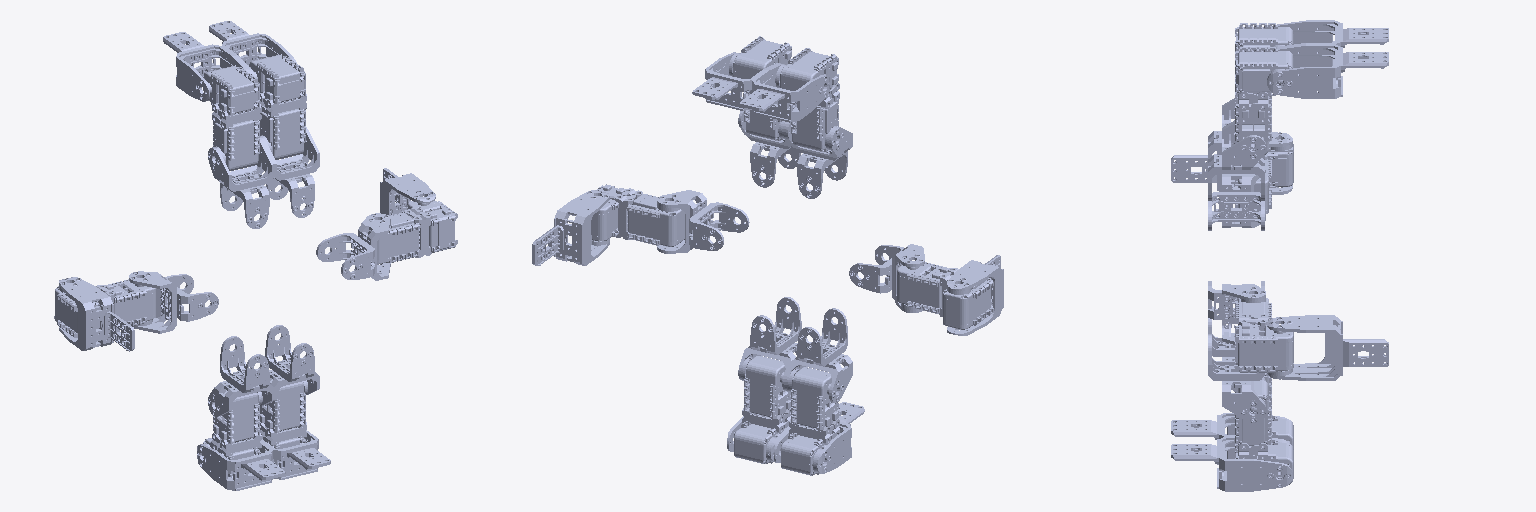
robot.urdf — spider:
<?xml version="1.0" encoding="utf-8"?>
<!-- This URDF was automatically created by SolidWorks to URDF Exporter! Originally created by Stephen Brawner ([email redacted]) 
     Commit Version: 1.6.0-1-g15f4949  Build Version: 1.6.7594.29634
     For more information, please see http://wiki.ros.org/sw_urdf_exporter -->
<robot
  name="spider">
  <link
    name="base_link">
    <inertial>
      <origin
        xyz="0.06965 -0.060146 0.00038836"
        rpy="0 0 0" />
      <mass
        value="0.32357" />
      <inertia
        ixx="9.1438E-05"
        ixy="-2.1084E-08"
        ixz="2.287E-11"
        iyy="9.6935E-05"
        iyz="6.371E-06"
        izz="0.00012302" />
    </inertial>
    <visual>
      <origin
        xyz="0 0 0"
        rpy="0 0 0" />
      <geometry>
        <mesh
          filename="package://spider/meshes/base_link.STL" />
      </geometry>
      <material
        name="">
        <color
          rgba="0.79216 0.81961 0.93333 1" />
      </material>
    </visual>
    <collision>
      <origin
        xyz="0 0 0"
        rpy="0 0 0" />
      <geometry>
        <mesh
          filename="package://spider/meshes/base_link.STL" />
      </geometry>
    </collision>
  </link>
  <link
    name="link1-1">
    <inertial>
      <origin
        xyz="0.0029272 0.0014395 0.028121"
        rpy="0 0 0" />
      <mass
        value="0.016509" />
      <inertia
        ixx="4.7513E-06"
        ixy="-1.1049E-15"
        ixz="-3.0699E-07"
        iyy="4.7742E-06"
        iyz="-1.5671E-10"
        izz="6.4655E-06" />
    </inertial>
    <visual>
      <origin
        xyz="0 0 0"
        rpy="0 0 0" />
      <geometry>
        <mesh
          filename="package://spider/meshes/link1-1.STL" />
      </geometry>
      <material
        name="">
        <color
          rgba="0.79216 0.81961 0.93333 1" />
      </material>
    </visual>
    <collision>
      <origin
        xyz="0 0 0"
        rpy="0 0 0" />
      <geometry>
        <mesh
          filename="package://spider/meshes/link1-1.STL" />
      </geometry>
    </collision>
  </link>
  <joint
    name="joint1-1"
    type="revolute">
    <origin
      xyz="0.14565 0.0010255 -0.059724"
      rpy="1.5708 0 1.5708" />
    <parent
      link="base_link" />
    <child
      link="link1-1" />
    <axis
      xyz="0 0 1" />
    <limit
      lower="-1.57"
      upper="1.57"
      effort="100"
      velocity="1" />
  </joint>
  <link
    name="link1-2">
    <inertial>
      <origin
        xyz="0.0045584 -0.0039395 -3.9372E-05"
        rpy="0 0 0" />
      <mass
        value="0.090281" />
      <inertia
        ixx="1.8732E-05"
        ixy="6.9118E-09"
        ixz="1.9053E-07"
        iyy="1.9071E-05"
        iyz="9.4929E-08"
        izz="2.0377E-05" />
    </inertial>
    <visual>
      <origin
        xyz="0 0 0"
        rpy="0 0 0" />
      <geometry>
        <mesh
          filename="package://spider/meshes/link1-2.STL" />
      </geometry>
      <material
        name="">
        <color
          rgba="0.79216 0.81961 0.93333 1" />
      </material>
    </visual>
    <collision>
      <origin
        xyz="0 0 0"
        rpy="0 0 0" />
      <geometry>
        <mesh
          filename="package://spider/meshes/link1-2.STL" />
      </geometry>
    </collision>
  </link>
  <joint
    name="joint1-2"
    type="revolute">
    <origin
      xyz="0.0145 0 0.0905"
      rpy="1.4973 0 0" />
    <parent
      link="link1-1" />
    <child
      link="link1-2" />
    <axis
      xyz="0 1 0" />
    <limit
      lower="-3.14"
      upper="3.14"
      effort="100"
      velocity="1" />
  </joint>
  <link
    name="link1-3">
    <inertial>
      <origin
        xyz="4.81524561196656E-08 -0.001639555290818 0.0391610106458949"
        rpy="0 0 0" />
      <mass
        value="0.0162354598923104" />
      <inertia
        ixx="5.70977126449827E-06"
        ixy="-8.8112790832911E-12"
        ixz="2.26674237419322E-11"
        iyy="9.85119727259757E-06"
        iyz="-5.03809142386347E-08"
        izz="6.18048965390726E-06" />
    </inertial>
    <visual>
      <origin
        xyz="0 0 0"
        rpy="0 0 0" />
      <geometry>
        <mesh
          filename="package://spider/meshes/link1-3.STL" />
      </geometry>
      <material
        name="">
        <color
          rgba="0.792156862745098 0.819607843137255 0.933333333333333 1" />
      </material>
    </visual>
    <collision>
      <origin
        xyz="0 0 0"
        rpy="0 0 0" />
      <geometry>
        <mesh
          filename="package://spider/meshes/link1-3.STL" />
      </geometry>
    </collision>
  </link>
  <joint
    name="joint1-3"
    type="revolute">
    <origin
      xyz="0.0225 0.018949 0.001395"
      rpy="-1.5708 -1.4973 -1.5708" />
    <parent
      link="link1-2" />
    <child
      link="link1-3" />
    <axis
      xyz="0 1 0" />
    <limit
      lower="-3.14"
      upper="3.14"
      effort="100"
      velocity="1" />
  </joint>
  <link
    name="link2-1">
    <inertial>
      <origin
        xyz="0.0028787 -0.0013732 -0.028034"
        rpy="0 0 0" />
      <mass
        value="0.01644" />
      <inertia
        ixx="4.7506E-06"
        ixy="-1.5342E-16"
        ixz="3.0699E-07"
        iyy="4.7741E-06"
        iyz="-1.567E-10"
        izz="6.4649E-06" />
    </inertial>
    <visual>
      <origin
        xyz="0 0 0"
        rpy="0 0 0" />
      <geometry>
        <mesh
          filename="package://spider/meshes/link2-1.STL" />
      </geometry>
      <material
        name="">
        <color
          rgba="0.79216 0.81961 0.93333 1" />
      </material>
    </visual>
    <collision>
      <origin
        xyz="0 0 0"
        rpy="0 0 0" />
      <geometry>
        <mesh
          filename="package://spider/meshes/link2-1.STL" />
      </geometry>
    </collision>
  </link>
  <joint
    name="joint2-1"
    type="revolute">
    <origin
      xyz="0.09365 0.0010255 0.014776"
      rpy="3.1416 0 1.5708" />
    <parent
      link="base_link" />
    <child
      link="link2-1" />
    <axis
      xyz="0 0 1" />
    <limit
      lower="-3.14"
      upper="3.14"
      effort="100"
      velocity="1" />
  </joint>
  <link
    name="link2-2">
    <inertial>
      <origin
        xyz="0.00456940269336029 -0.0375990154493233 -0.000232293803969774"
        rpy="0 0 0" />
      <mass
        value="0.0900475899194254" />
      <inertia
        ixx="1.87431231972947E-05"
        ixy="-2.09852441088479E-08"
        ixz="-1.89540352094223E-07"
        iyy="1.91013032023302E-05"
        iyz="1.89445374590494E-07"
        izz="2.03522492142479E-05" />
    </inertial>
    <visual>
      <origin
        xyz="0 0 0"
        rpy="0 0 0" />
      <geometry>
        <mesh
          filename="package://spider/meshes/link2-2.STL" />
      </geometry>
      <material
        name="">
        <color
          rgba="0.792156862745098 0.819607843137255 0.933333333333333 1" />
      </material>
    </visual>
    <collision>
      <origin
        xyz="0 0 0"
        rpy="0 0 0" />
      <geometry>
        <mesh
          filename="package://spider/meshes/link2-2.STL" />
      </geometry>
    </collision>
  </link>
  <joint
    name="j2-2"
    type="revolute">
    <origin
      xyz="0.0145 0 -0.049"
      rpy="1.5708 0 0" />
    <parent
      link="link2-1" />
    <child
      link="link2-2" />
    <axis
      xyz="1 0 0" />
    <limit
      lower="-3.14"
      upper="3.14"
      effort="100"
      velocity="1" />
  </joint>
  <link
    name="l2-3">
    <inertial>
      <origin
        xyz="4.81524561612989E-08 -0.00163955529081801 0.0391610106458949"
        rpy="0 0 0" />
      <mass
        value="0.0162354598923105" />
      <inertia
        ixx="5.70977126449829E-06"
        ixy="-8.8112790834674E-12"
        ixz="2.26674237541185E-11"
        iyy="9.8511972725976E-06"
        iyz="-5.03809142386373E-08"
        izz="6.18048965390729E-06" />
    </inertial>
    <visual>
      <origin
        xyz="0 0 0"
        rpy="0 0 0" />
      <geometry>
        <mesh
          filename="package://spider/meshes/l2-3.STL" />
      </geometry>
      <material
        name="">
        <color
          rgba="0.792156862745098 0.819607843137255 0.933333333333333 1" />
      </material>
    </visual>
    <collision>
      <origin
        xyz="0 0 0"
        rpy="0 0 0" />
      <geometry>
        <mesh
          filename="package://spider/meshes/l2-3.STL" />
      </geometry>
    </collision>
  </link>
  <joint
    name="j2-3"
    type="revolute">
    <origin
      xyz="0.0225 -0.0605 0"
      rpy="0 1.5708 0" />
    <parent
      link="link2-2" />
    <child
      link="l2-3" />
    <axis
      xyz="1 0 0" />
    <limit
      lower="-3.14"
      upper="3.14"
      effort="100"
      velocity="1" />
  </joint>
  <link
    name="Link3-1">
    <inertial>
      <origin
        xyz="0.0029272 -0.0014395 -0.028121"
        rpy="0 0 0" />
      <mass
        value="0.016509" />
      <inertia
        ixx="4.7513E-06"
        ixy="1.105E-15"
        ixz="3.0699E-07"
        iyy="4.7742E-06"
        iyz="-1.5671E-10"
        izz="6.4655E-06" />
    </inertial>
    <visual>
      <origin
        xyz="0 0 0"
        rpy="0 0 0" />
      <geometry>
        <mesh
          filename="package://spider/meshes/Link3-1.STL" />
      </geometry>
      <material
        name="">
        <color
          rgba="0.79216 0.81961 0.93333 1" />
      </material>
    </visual>
    <collision>
      <origin
        xyz="0 0 0"
        rpy="0 0 0" />
      <geometry>
        <mesh
          filename="package://spider/meshes/Link3-1.STL" />
      </geometry>
    </collision>
  </link>
  <joint
    name="j3-1"
    type="revolute">
    <origin
      xyz="0.04565 0.0010255 0.014776"
      rpy="-3.1416 0 1.5708" />
    <parent
      link="base_link" />
    <child
      link="Link3-1" />
    <axis
      xyz="0 0 1" />
    <limit
      lower="-3.14"
      upper="3.14"
      effort="100"
      velocity="1" />
  </joint>
  <link
    name="l3-2">
    <inertial>
      <origin
        xyz="0.00455554834605721 -0.0375867899880844 -0.000250865030354555"
        rpy="0 0 0" />
      <mass
        value="0.0899979291999051" />
      <inertia
        ixx="1.87172016777334E-05"
        ixy="-2.08817053695041E-08"
        ixz="-1.89502932188281E-07"
        iyy="1.9077205931428E-05"
        iyz="1.89503836208455E-07"
        izz="2.03553773315109E-05" />
    </inertial>
    <visual>
      <origin
        xyz="0 0 0"
        rpy="0 0 0" />
      <geometry>
        <mesh
          filename="package://spider/meshes/l3-2.STL" />
      </geometry>
      <material
        name="">
        <color
          rgba="0.792156862745098 0.819607843137255 0.933333333333333 1" />
      </material>
    </visual>
    <collision>
      <origin
        xyz="0 0 0"
        rpy="0 0 0" />
      <geometry>
        <mesh
          filename="package://spider/meshes/l3-2.STL" />
      </geometry>
    </collision>
  </link>
  <joint
    name="j3-2"
    type="revolute">
    <origin
      xyz="0.0145 0 -0.049"
      rpy="1.5708 0 0" />
    <parent
      link="Link3-1" />
    <child
      link="l3-2" />
    <axis
      xyz="1 0 0" />
    <limit
      lower="-3.14"
      upper="3.14"
      effort="100"
      velocity="1" />
  </joint>
  <link
    name="l3-3">
    <inertial>
      <origin
        xyz="4.81524561474211E-08 -0.00163955529081804 0.0391610106458949"
        rpy="0 0 0" />
      <mass
        value="0.0162354598923105" />
      <inertia
        ixx="5.70977126449829E-06"
        ixy="-8.8112790828747E-12"
        ixz="2.26674237565265E-11"
        iyy="9.8511972725976E-06"
        iyz="-5.03809142386341E-08"
        izz="6.18048965390729E-06" />
    </inertial>
    <visual>
      <origin
        xyz="0 0 0"
        rpy="0 0 0" />
      <geometry>
        <mesh
          filename="package://spider/meshes/l3-3.STL" />
      </geometry>
      <material
        name="">
        <color
          rgba="0.792156862745098 0.819607843137255 0.933333333333333 1" />
      </material>
    </visual>
    <collision>
      <origin
        xyz="0 0 0"
        rpy="0 0 0" />
      <geometry>
        <mesh
          filename="package://spider/meshes/l3-3.STL" />
      </geometry>
    </collision>
  </link>
  <joint
    name="j3-3"
    type="revolute">
    <origin
      xyz="0.0225 -0.0605 0"
      rpy="0 1.5708 0" />
    <parent
      link="l3-2" />
    <child
      link="l3-3" />
    <axis
      xyz="1 0 0" />
    <limit
      lower="-3.14"
      upper="3.14"
      effort="100"
      velocity="1" />
  </joint>
  <link
    name="Link1'-1">
    <inertial>
      <origin
        xyz="0.0029272 0.0014395 0.028121"
        rpy="0 0 0" />
      <mass
        value="0.016509" />
      <inertia
        ixx="4.7513E-06"
        ixy="5.3643E-15"
        ixz="-3.0699E-07"
        iyy="4.7742E-06"
        iyz="-1.5674E-10"
        izz="6.4655E-06" />
    </inertial>
    <visual>
      <origin
        xyz="0 0 0"
        rpy="0 0 0" />
      <geometry>
        <mesh
          filename="package://spider/meshes/Link1'-1.STL" />
      </geometry>
      <material
        name="">
        <color
          rgba="0.79216 0.81961 0.93333 1" />
      </material>
    </visual>
    <collision>
      <origin
        xyz="0 0 0"
        rpy="0 0 0" />
      <geometry>
        <mesh
          filename="package://spider/meshes/Link1'-1.STL" />
      </geometry>
    </collision>
  </link>
  <joint
    name="j1'-1"
    type="revolute">
    <origin
      xyz="-0.0063504 0.0010255 -0.059724"
      rpy="-1.5708 0 1.5708" />
    <parent
      link="base_link" />
    <child
      link="Link1'-1" />
    <axis
      xyz="0 0 1" />
    <limit
      lower="-3.14"
      upper="3.14"
      effort="100"
      velocity="1" />
  </joint>
  <link
    name="l1'-2">
    <inertial>
      <origin
        xyz="0.0229772283825683 -0.0179454345262804 0.00026282191392938"
        rpy="0 0 0" />
      <mass
        value="0.0903572601752896" />
      <inertia
        ixx="1.91049081720944E-05"
        ixy="-2.08818818831712E-08"
        ixz="-1.89504089823545E-07"
        iyy="1.87449036322938E-05"
        iyz="1.89503857894319E-07"
        izz="2.03556401861555E-05" />
    </inertial>
    <visual>
      <origin
        xyz="0 0 0"
        rpy="0 0 0" />
      <geometry>
        <mesh
          filename="package://spider/meshes/l1'-2.STL" />
      </geometry>
      <material
        name="">
        <color
          rgba="0.792156862745098 0.819607843137255 0.933333333333333 1" />
      </material>
    </visual>
    <collision>
      <origin
        xyz="0 0 0"
        rpy="0 0 0" />
      <geometry>
        <mesh
          filename="package://spider/meshes/l1'-2.STL" />
      </geometry>
    </collision>
  </link>
  <joint
    name="j1'-2"
    type="revolute">
    <origin
      xyz="0.037 0 0.1095"
      rpy="3.1416 1.5708 1.5708" />
    <parent
      link="Link1'-1" />
    <child
      link="l1'-2" />
    <axis
      xyz="0 -1 0" />
    <limit
      lower="-3.14"
      upper="3.14"
      effort="100"
      velocity="1" />
  </joint>
  <link
    name="l1'-3">
    <inertial>
      <origin
        xyz="4.81524560433377E-08 -0.00163955529081773 0.0391610106458952"
        rpy="0 0 0" />
      <mass
        value="0.0162354598923104" />
      <inertia
        ixx="5.70977126449827E-06"
        ixy="-8.81127908282785E-12"
        ixz="2.26674237478767E-11"
        iyy="9.85119727259758E-06"
        iyz="-5.03809142386411E-08"
        izz="6.18048965390728E-06" />
    </inertial>
    <visual>
      <origin
        xyz="0 0 0"
        rpy="0 0 0" />
      <geometry>
        <mesh
          filename="package://spider/meshes/l1'-3.STL" />
      </geometry>
      <material
        name="">
        <color
          rgba="0.792156862745098 0.819607843137255 0.933333333333333 1" />
      </material>
    </visual>
    <collision>
      <origin
        xyz="0 0 0"
        rpy="0 0 0" />
      <geometry>
        <mesh
          filename="package://spider/meshes/l1'-3.STL" />
      </geometry>
    </collision>
  </link>
  <joint
    name="l1'-3"
    type="revolute">
    <origin
      xyz="0 0 0"
      rpy="1.5708 -1.5708 0" />
    <parent
      link="l1'-2" />
    <child
      link="l1'-3" />
    <axis
      xyz="0 -1 0" />
    <limit
      lower="-3.14"
      upper="3.14"
      effort="100"
      velocity="1" />
  </joint>
  <link
    name="Link3'-1">
    <inertial>
      <origin
        xyz="0.0028787 0.0013732 0.028034"
        rpy="0 0 0" />
      <mass
        value="0.01644" />
      <inertia
        ixx="4.7506E-06"
        ixy="1.5342E-16"
        ixz="-3.0699E-07"
        iyy="4.7741E-06"
        iyz="-1.567E-10"
        izz="6.4649E-06" />
    </inertial>
    <visual>
      <origin
        xyz="0 0 0"
        rpy="0 0 0" />
      <geometry>
        <mesh
          filename="package://spider/meshes/Link3'-1.STL" />
      </geometry>
      <material
        name="">
        <color
          rgba="0.79216 0.81961 0.93333 1" />
      </material>
    </visual>
    <collision>
      <origin
        xyz="0 0 0"
        rpy="0 0 0" />
      <geometry>
        <mesh
          filename="package://spider/meshes/Link3'-1.STL" />
      </geometry>
    </collision>
  </link>
  <joint
    name="j3'-1"
    type="revolute">
    <origin
      xyz="0.04565 0.0010255 -0.13422"
      rpy="3.1416 0 1.5708" />
    <parent
      link="base_link" />
    <child
      link="Link3'-1" />
    <axis
      xyz="0 0 1" />
    <limit
      lower="-3.14"
      upper="3.14"
      effort="100"
      velocity="1" />
  </joint>
  <link
    name="l3'-2">
    <inertial>
      <origin
        xyz="0.00455456547370052 -0.00397722838259307 0.000262821913908251"
        rpy="0 0 0" />
      <mass
        value="0.0903572601751924" />
      <inertia
        ixx="1.87449036322931E-05"
        ixy="2.08818818831496E-08"
        ixz="1.89503857894261E-07"
        iyy="1.91049081720936E-05"
        iyz="1.8950408982354E-07"
        izz="2.03556401861555E-05" />
    </inertial>
    <visual>
      <origin
        xyz="0 0 0"
        rpy="0 0 0" />
      <geometry>
        <mesh
          filename="package://spider/meshes/l3'-2.STL" />
      </geometry>
      <material
        name="">
        <color
          rgba="0.792156862745098 0.819607843137255 0.933333333333333 1" />
      </material>
    </visual>
    <collision>
      <origin
        xyz="0 0 0"
        rpy="0 0 0" />
      <geometry>
        <mesh
          filename="package://spider/meshes/l3'-2.STL" />
      </geometry>
    </collision>
  </link>
  <joint
    name="j3'-2"
    type="revolute">
    <origin
      xyz="0.0145 0 0.0905"
      rpy="1.5708 0 0" />
    <parent
      link="Link3'-1" />
    <child
      link="l3'-2" />
    <axis
      xyz="-1 0 0" />
    <limit
      lower="-3.14"
      upper="3.14"
      effort="100"
      velocity="1" />
  </joint>
  <link
    name="l3'-3">
    <inertial>
      <origin
        xyz="4.81524561335434E-08 -0.00163955529081802 0.0391610106458949"
        rpy="0 0 0" />
      <mass
        value="0.0162354598923105" />
      <inertia
        ixx="5.70977126449827E-06"
        ixy="-8.81127908397801E-12"
        ixz="2.26674237422794E-11"
        iyy="9.85119727259758E-06"
        iyz="-5.03809142386363E-08"
        izz="6.18048965390729E-06" />
    </inertial>
    <visual>
      <origin
        xyz="0 0 0"
        rpy="0 0 0" />
      <geometry>
        <mesh
          filename="package://spider/meshes/l3'-3.STL" />
      </geometry>
      <material
        name="">
        <color
          rgba="0.792156862745098 0.819607843137255 0.933333333333333 1" />
      </material>
    </visual>
    <collision>
      <origin
        xyz="0 0 0"
        rpy="0 0 0" />
      <geometry>
        <mesh
          filename="package://spider/meshes/l3'-3.STL" />
      </geometry>
    </collision>
  </link>
  <joint
    name="j3'-3"
    type="revolute">
    <origin
      xyz="0.0225 0.019 0"
      rpy="0 -1.5708 0" />
    <parent
      link="l3'-2" />
    <child
      link="l3'-3" />
    <axis
      xyz="-1 0 0" />
    <limit
      lower="-3.14"
      upper="3.14"
      effort="100"
      velocity="1" />
  </joint>
  <link
    name="Link2'-1">
    <inertial>
      <origin
        xyz="0.0029272 0.0014395 0.028121"
        rpy="0 0 0" />
      <mass
        value="0.016509" />
      <inertia
        ixx="4.7513E-06"
        ixy="-1.1049E-15"
        ixz="-3.0699E-07"
        iyy="4.7742E-06"
        iyz="-1.5671E-10"
        izz="6.4655E-06" />
    </inertial>
    <visual>
      <origin
        xyz="0 0 0"
        rpy="0 0 0" />
      <geometry>
        <mesh
          filename="package://spider/meshes/Link2'-1.STL" />
      </geometry>
      <material
        name="">
        <color
          rgba="0.79216 0.81961 0.93333 1" />
      </material>
    </visual>
    <collision>
      <origin
        xyz="0 0 0"
        rpy="0 0 0" />
      <geometry>
        <mesh
          filename="package://spider/meshes/Link2'-1.STL" />
      </geometry>
    </collision>
  </link>
  <joint
    name="j2'-1"
    type="revolute">
    <origin
      xyz="0.09365 0.0010255 -0.13422"
      rpy="3.1416 0 1.5708" />
    <parent
      link="base_link" />
    <child
      link="Link2'-1" />
    <axis
      xyz="0 0 1" />
    <limit
      lower="-3.14"
      upper="3.14"
      effort="100"
      velocity="1" />
  </joint>
  <link
    name="l2'-2">
    <inertial>
      <origin
        xyz="0.0229286148735609 -0.017907446666878 0.000265416209779906"
        rpy="0 0 0" />
      <mass
        value="0.0905488366619493" />
      <inertia
        ixx="1.9105855921183E-05"
        ixy="-2.08818818831934E-08"
        ixz="-1.89504089823648E-07"
        iyy="1.87458477992373E-05"
        iyz="1.89498695110175E-07"
        izz="2.03564751299157E-05" />
    </inertial>
    <visual>
      <origin
        xyz="0 0 0"
        rpy="0 0 0" />
      <geometry>
        <mesh
          filename="package://spider/meshes/l2'-2.STL" />
      </geometry>
      <material
        name="">
        <color
          rgba="0.792156862745098 0.819607843137255 0.933333333333333 1" />
      </material>
    </visual>
    <collision>
      <origin
        xyz="0 0 0"
        rpy="0 0 0" />
      <geometry>
        <mesh
          filename="package://spider/meshes/l2'-2.STL" />
      </geometry>
    </collision>
  </link>
  <joint
    name="j2'-2"
    type="revolute">
    <origin
      xyz="0.037 0 0.1095"
      rpy="1.5708 1.5708 0" />
    <parent
      link="Link2'-1" />
    <child
      link="l2'-2" />
    <axis
      xyz="-1 0 0" />
    <limit
      lower="-3.14"
      upper="3.14"
      effort="100"
      velocity="1" />
  </joint>
  <link
    name="l2'-3">
    <inertial>
      <origin
        xyz="4.81524556616986E-08 -0.00163955529081805 0.0391610106458948"
        rpy="0 0 0" />
      <mass
        value="0.0162354598923104" />
      <inertia
        ixx="5.70977126449828E-06"
        ixy="-8.81127908249813E-12"
        ixz="2.26674237535988E-11"
        iyy="9.85119727259758E-06"
        iyz="-5.03809142386312E-08"
        izz="6.18048965390728E-06" />
    </inertial>
    <visual>
      <origin
        xyz="0 0 0"
        rpy="0 0 0" />
      <geometry>
        <mesh
          filename="package://spider/meshes/l2'-3.STL" />
      </geometry>
      <material
        name="">
        <color
          rgba="0.792156862745098 0.819607843137255 0.933333333333333 1" />
      </material>
    </visual>
    <collision>
      <origin
        xyz="0 0 0"
        rpy="0 0 0" />
      <geometry>
        <mesh
          filename="package://spider/meshes/l2'-3.STL" />
      </geometry>
    </collision>
  </link>
  <joint
    name="j2'-3"
    type="revolute">
    <origin
      xyz="0 0 0"
      rpy="1.5708 -1.5708 0" />
    <parent
      link="l2'-2" />
    <child
      link="l2'-3" />
    <axis
      xyz="-1 0 0" />
    <limit
      lower="-3.14"
      upper="3.14"
      effort="100"
      velocity="1" />
  </joint>
</robot>

--- Facts derived from the render (not from the file) ---
The picture shows the robot from 3 angles, left to right: view 1: azimuth 30°, elevation 25°; view 2: azimuth 150°, elevation 25°; view 3: azimuth 270°, elevation 25°; orthographic projection.
Robot: spider — 19 links, 18 joints (18 revolute); root link base_link; default pose: all joints at 0.
Visible links, largest first — view 1: l3-2, link2-2, link1-2, l1'-3, Link3-1, Link1'-1, Link3'-1, link1-1, l1'-2, l3'-2, l3-3, link2-1 (+6 smaller); view 2: l3'-2, l2'-2, link1-2, l1'-2, l3-2, link1-3, link1-1, Link3'-1, l3-3, Link2'-1, link2-2, Link3-1 (+5 smaller); view 3: l2-3, link1-3, link2-2, link1-2, l2'-3, l2'-2, Link1'-1, Link2'-1, link2-1, l3-3, link1-1, l1'-3 (+5 smaller).
Boxes of the visible links, bbox=[...] form: l3-2: bbox=[203, 66, 261, 170]; link2-2: bbox=[249, 55, 306, 159]; link1-2: bbox=[368, 201, 457, 264]; l1'-3: bbox=[59, 277, 134, 351]; Link3-1: bbox=[208, 138, 273, 228]; Link1'-1: bbox=[129, 271, 218, 333]; Link3'-1: bbox=[208, 336, 273, 416]; link1-1: bbox=[316, 213, 390, 280]; l1'-2: bbox=[54, 279, 155, 337]; l3'-2: bbox=[202, 390, 261, 477]; l3-3: bbox=[163, 32, 250, 101]; link2-1: bbox=[260, 126, 319, 217]; l3'-2: bbox=[781, 367, 839, 475]; l2'-2: bbox=[734, 356, 790, 463]; link1-2: bbox=[591, 184, 684, 246]; l1'-2: bbox=[897, 262, 993, 329]; l3-2: bbox=[775, 48, 839, 151]; link1-3: bbox=[532, 190, 609, 265]; link1-1: bbox=[657, 190, 749, 253]; Link3'-1: bbox=[785, 308, 852, 402]; l3-3: bbox=[739, 64, 829, 122]; Link2'-1: bbox=[738, 297, 801, 391]; link2-2: bbox=[729, 36, 791, 140]; Link3-1: bbox=[785, 122, 852, 198]; l2-3: bbox=[1267, 44, 1388, 98]; link1-3: bbox=[1267, 315, 1388, 380]; link2-2: bbox=[1235, 47, 1293, 155]; link1-2: bbox=[1235, 298, 1293, 375]; l2'-3: bbox=[1171, 437, 1292, 491]; l2'-2: bbox=[1235, 380, 1293, 484]; Link1'-1: bbox=[1208, 166, 1265, 230]; Link2'-1: bbox=[1208, 334, 1265, 422]; link2-1: bbox=[1208, 122, 1265, 200]; l3-3: bbox=[1272, 20, 1388, 72]; link1-1: bbox=[1208, 281, 1265, 344]; l1'-3: bbox=[1171, 132, 1292, 194].
Bounding box of the posed robot: 0.403 × 0.186 × 0.4 m (x, y, z).
18 mesh visuals loaded from 19 distinct referenced files (18 binary STL); not drawn: 1 (reference not matched to a file when rendering).
